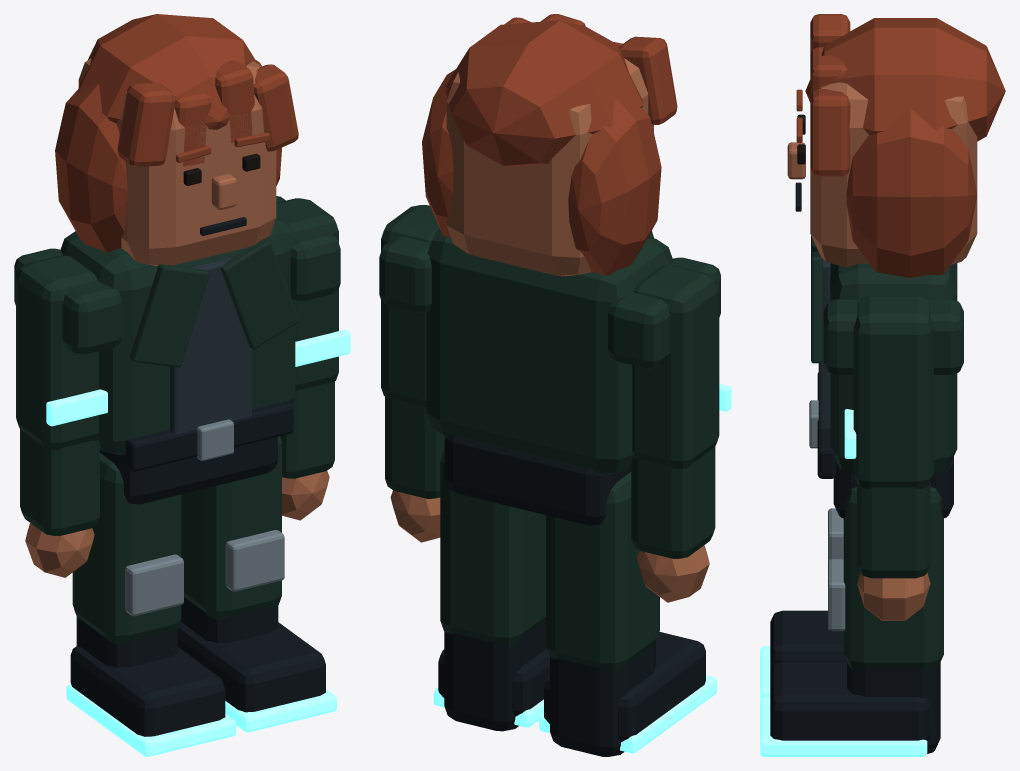
File: agent-edith.glb
3 renders of one model, left to right at view 1: azimuth 30°, elevation 25°; view 2: azimuth 150°, elevation 25°; view 3: azimuth 270°, elevation 25°, orthographic. The views are drawn at different scales.
Parts seen in each view (by area): view 1: head_mesh, torso_mesh, upper_arm_-1, thigh_mesh_-1, hair_cap, thigh_mesh_1, boot_-1, shirt_panel, bob_-1, boot_1, forearm_mesh_-1, waist_mesh (+23 smaller); view 2: torso_mesh, hair_cap, thigh_mesh_-1, head_mesh, thigh_mesh_1, upper_arm_-1, bob_-1, waist_mesh, forearm_mesh_-1, shin_mesh_-1, shin_mesh_1, upper_arm_1 (+11 smaller); view 3: bob_1, upper_arm_1, hair_cap, boot_1, thigh_mesh_1, torso_mesh, forearm_mesh_1, head_mesh, shoulder_pad_1, boot_-1, hair_lock_3, sole_1 (+14 smaller).
Part boxes in pixels (<box>): head_mesh: <box>78,58,276,265</box>; torso_mesh: <box>60,216,295,454</box>; upper_arm_-1: <box>16,255,98,450</box>; thigh_mesh_-1: <box>72,453,181,644</box>; hair_cap: <box>77,14,257,129</box>; thigh_mesh_1: <box>181,436,281,620</box>; boot_-1: <box>70,645,225,736</box>; shirt_panel: <box>170,256,251,434</box>; bob_-1: <box>55,84,127,251</box>; boot_1: <box>177,622,325,712</box>; forearm_mesh_-1: <box>20,429,99,535</box>; waist_mesh: <box>100,437,277,504</box>; torso_mesh: <box>426,228,672,473</box>; hair_cap: <box>445,20,643,166</box>; thigh_mesh_-1: <box>546,472,659,672</box>; head_mesh: <box>446,58,653,276</box>; thigh_mesh_1: <box>440,449,545,646</box>; upper_arm_-1: <box>632,265,719,469</box>; bob_-1: <box>568,97,661,275</box>; waist_mesh: <box>444,435,631,525</box>; forearm_mesh_-1: <box>631,447,715,558</box>; shin_mesh_-1: <box>550,643,655,756</box>; shin_mesh_1: <box>444,621,546,731</box>; upper_arm_1: <box>381,205,439,407</box>; bob_1: <box>846,108,977,277</box>; upper_arm_1: <box>853,296,933,488</box>; hair_cap: <box>805,18,1005,141</box>; boot_1: <box>770,661,930,741</box>; thigh_mesh_1: <box>843,487,943,670</box>; torso_mesh: <box>830,263,957,473</box>; forearm_mesh_1: <box>857,482,930,578</box>; head_mesh: <box>810,46,977,267</box>; shoulder_pad_1: <box>823,299,963,374</box>; boot_-1: <box>770,610,846,672</box>; hair_lock_3: <box>810,89,850,176</box>; sole_1: <box>760,697,927,756</box>.
Size of the model in its own units: 1.07 by 2.28 by 0.735.
